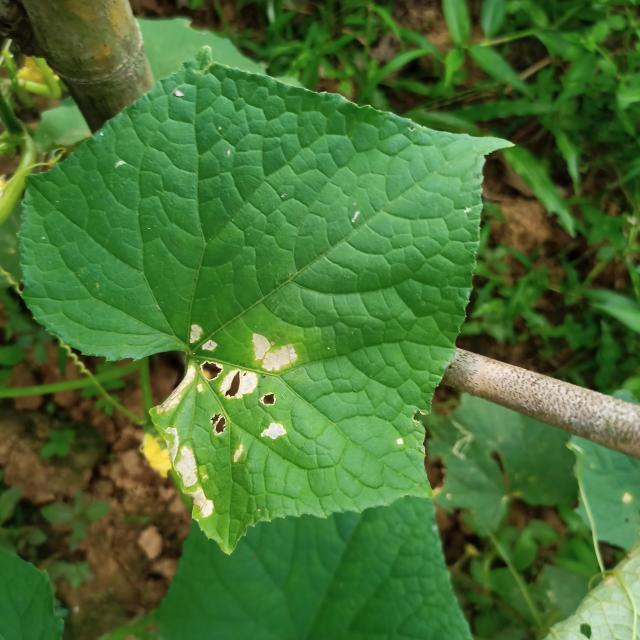disease_cucumber: (156, 324, 299, 518)
